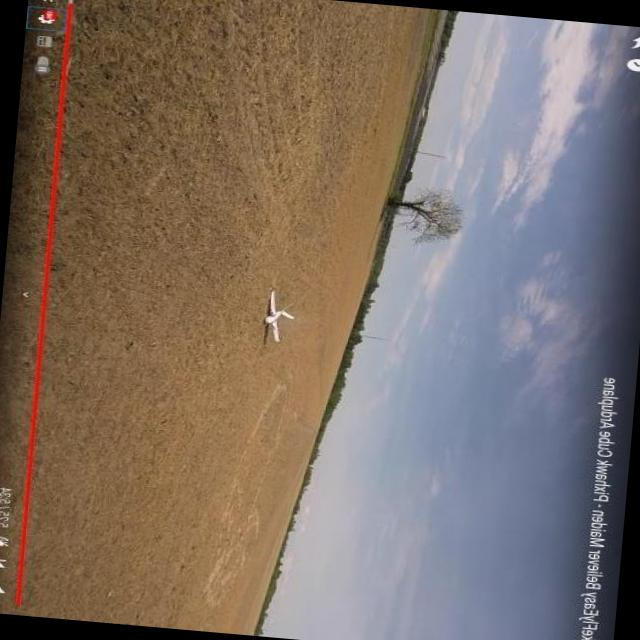UAV: (250, 288, 300, 336)
